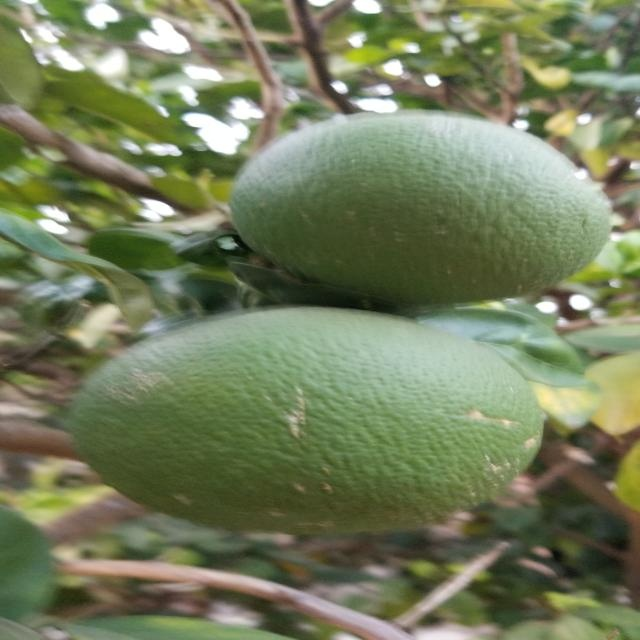agrume: (75, 303, 549, 540), (229, 109, 617, 308)
